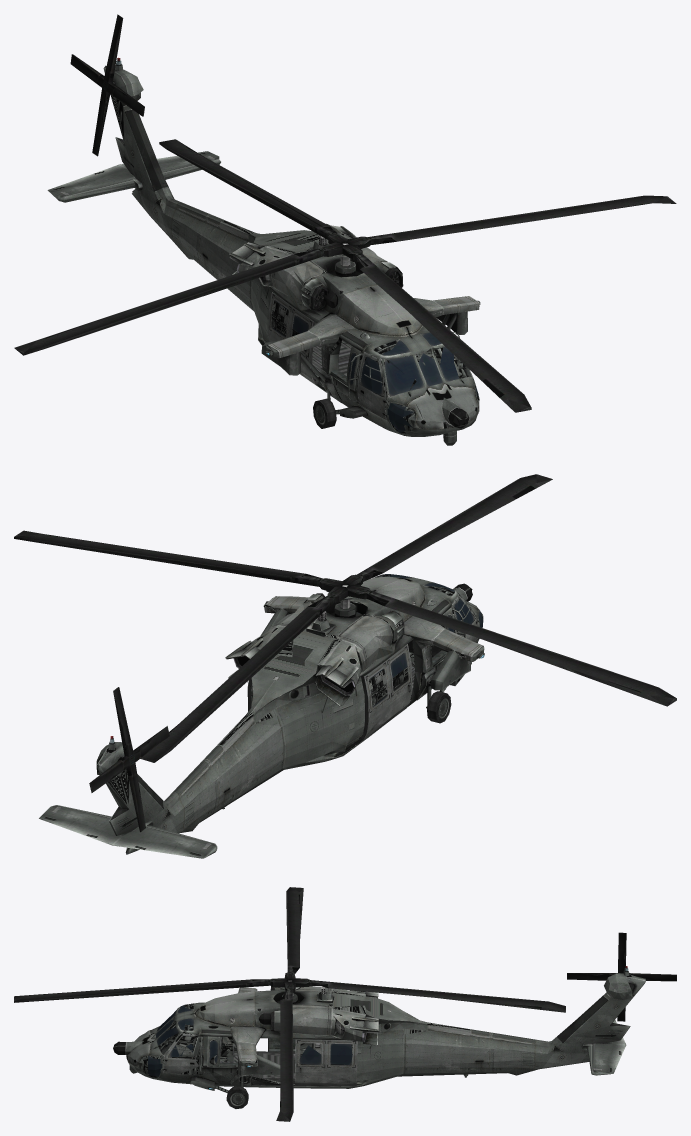
File: Heli for blast.fbx
3 views of the same model, one above another, from view 1: azimuth 30°, elevation 25°; view 2: azimuth 150°, elevation 25°; view 3: azimuth 270°, elevation 25° (orthographic). The views are drawn at different scales.
Visible parts, largest first — view 1: Null_2_Part_8, main__rotor_Part_5, Null_2_Part_14, Null_2_Part_13, Null_2_Part_2, Null_2_Part_6, Null_2_Part_7, main__rotor_Part_8, main__rotor_Part_1, Null_2_Part_19, Null_2_Part_9, Null_2_Part_5 (+9 smaller); view 2: Null_2_Part_9, Null_2_Part_8, main__rotor_Part_5, Null_2_Part_19, Null_2_Part_7, main__rotor_Part_1, Null_2_Part_23, Null_2_Part_21, main__rotor_Part_8, Null_2_Part_10, Null_2_Part_16, Null_2_Part_3 (+9 smaller); view 3: Null_2_Part_8, Null_2_Part_19, Null_2_Part_1, main__rotor_Part_5, Null_2_Part_5, Null_2_Part_4, Null_2_Part_9, Null_2_Part_20, Null_2_Part_25, Null_2_Part_16, Null_2_Part_14, Null_2_Part_6 (+12 smaller).
Part boxes in pixels (<box>): Null_2_Part_8: <box>47,57,220,221</box>; main__rotor_Part_5: <box>159,139,344,291</box>; Null_2_Part_14: <box>386,375,479,445</box>; Null_2_Part_13: <box>333,317,387,429</box>; Null_2_Part_2: <box>376,315,435,418</box>; Null_2_Part_6: <box>310,277,404,327</box>; Null_2_Part_7: <box>242,254,315,354</box>; main__rotor_Part_8: <box>408,305,531,412</box>; main__rotor_Part_1: <box>14,283,215,355</box>; Null_2_Part_19: <box>210,220,277,316</box>; Null_2_Part_9: <box>229,223,350,291</box>; Null_2_Part_5: <box>388,309,472,379</box>; Null_2_Part_9: <box>225,625,356,734</box>; Null_2_Part_8: <box>39,736,217,858</box>; main__rotor_Part_5: <box>140,583,482,762</box>; Null_2_Part_19: <box>217,692,303,809</box>; Null_2_Part_7: <box>343,625,407,724</box>; main__rotor_Part_1: <box>475,628,676,706</box>; Null_2_Part_23: <box>403,655,470,723</box>; Null_2_Part_21: <box>407,618,484,671</box>; main__rotor_Part_8: <box>417,474,552,543</box>; Null_2_Part_10: <box>304,610,401,645</box>; Null_2_Part_16: <box>179,745,233,813</box>; Null_2_Part_3: <box>301,718,387,766</box>; Null_2_Part_8: <box>550,966,645,1075</box>; Null_2_Part_19: <box>398,1013,470,1077</box>; Null_2_Part_1: <box>293,1012,368,1088</box>; main__rotor_Part_5: <box>282,941,565,1012</box>; Null_2_Part_5: <box>158,1002,229,1057</box>; Null_2_Part_4: <box>160,1050,248,1108</box>; Null_2_Part_9: <box>330,989,406,1035</box>; Null_2_Part_20: <box>342,1031,403,1088</box>; Null_2_Part_25: <box>210,1027,280,1103</box>; Null_2_Part_16: <box>468,1029,525,1074</box>; Null_2_Part_14: <box>113,1030,180,1081</box>; Null_2_Part_6: <box>216,986,278,1054</box>.
Bounding box in the file's own units: 667 × 205 × 801.
